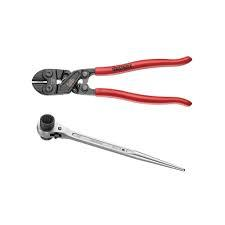wrench: (35, 112, 185, 171)
